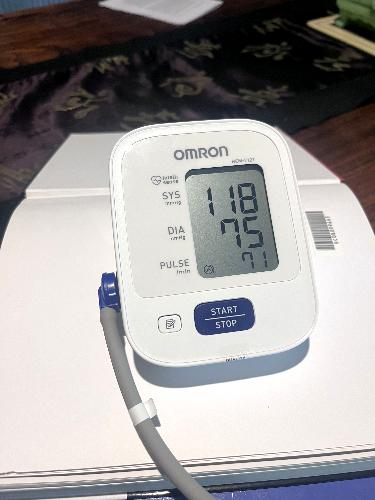bpm: (181, 156, 282, 284)
